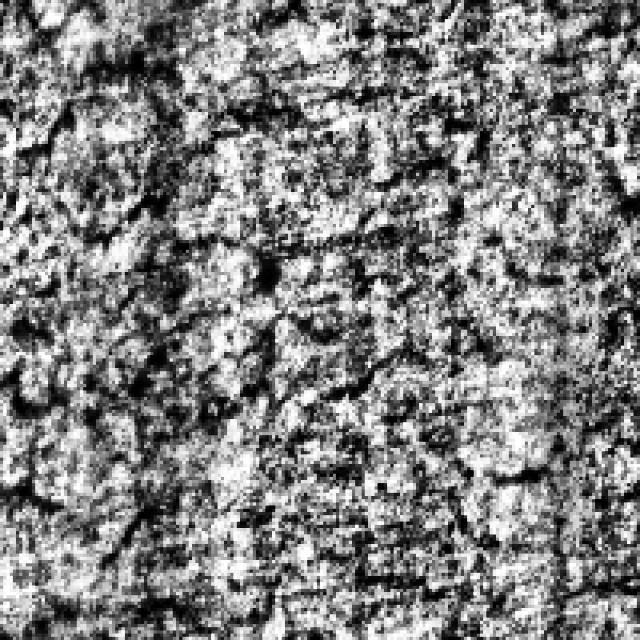Pitted_Surface: (9, 298, 564, 483), (6, 48, 422, 243)
